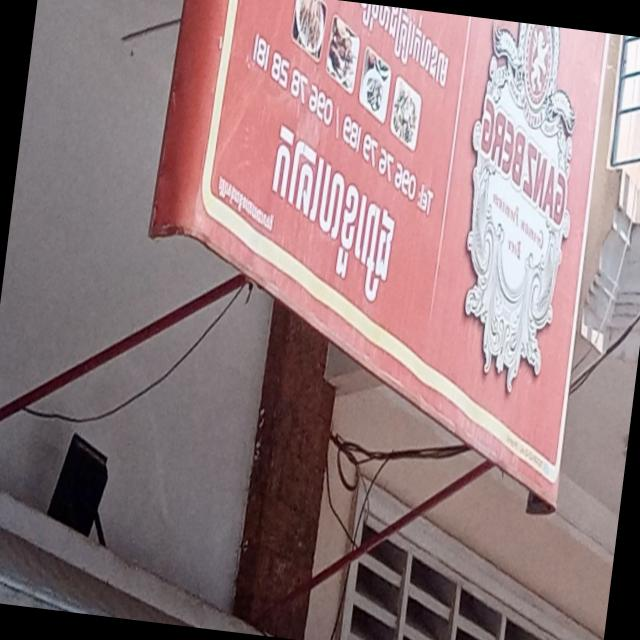Yolov11kh: (256, 103, 419, 317), (409, 14, 461, 96)
